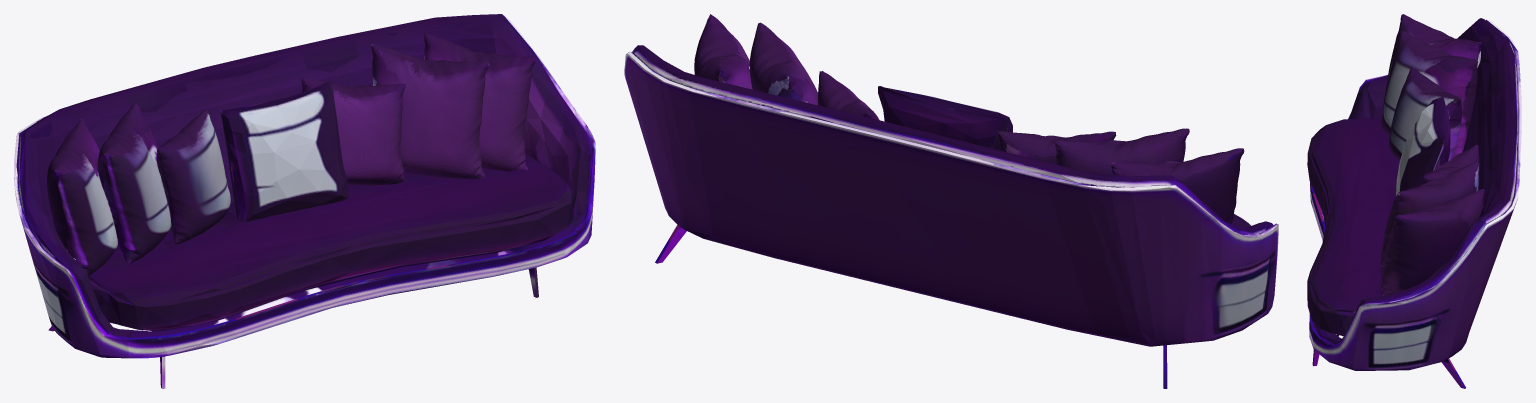
The model's file is edited_mesh.glb.
3 renders of one model, left to right at view 1: azimuth 30°, elevation 25°; view 2: azimuth 150°, elevation 25°; view 3: azimuth 270°, elevation 25°, orthographic. The views are drawn at different scales.
Parts seen in each view (by area): view 1: solid_001_wire; view 2: solid_001_wire; view 3: solid_001_wire.
Part boxes in pixels (<box>): solid_001_wire: <box>14,14,595,388</box>; solid_001_wire: <box>624,14,1278,388</box>; solid_001_wire: <box>1307,14,1521,388</box>.
Bounding box in the file's own units: 2 × 0.7102 × 0.7886.
1 material, 1 textured.
